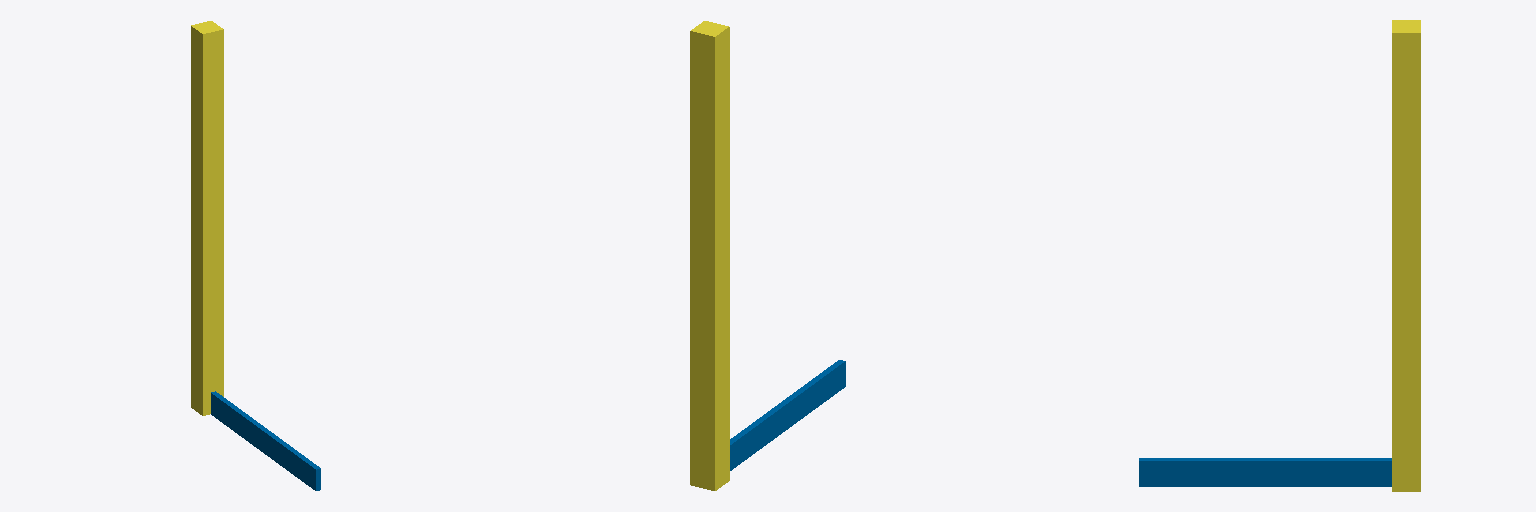
URDF robot description (panda):
<?xml version="1.0" ?>
<!-- =================================================================================== -->
<!-- |    This document was autogenerated by xacro from /opt/ros/kinetic/share/moveit_resources/panda_description/urdf/panda.urdf | -->
<!-- |    EDITING THIS FILE BY HAND IS NOT RECOMMENDED                                 | -->
<!-- =================================================================================== -->
<robot name="panda" xmlns:xacro="http://www.ros.org/wiki/xacro">
    <link name="l1">
        <inertial>
            <mass value="1e-6"/>
            <inertia ixx="1e-6" ixy="1e-6" ixz="1e-6" iyy="1e-6" iyz="1e-6" izz="1e-6"/>
        </inertial>
    </link>
    <link name="l2">
        <inertial>
            <mass value="1e-6"/>
            <inertia ixx="1e-6" ixy="1e-6" ixz="1e-6" iyy="1e-6" iyz="1e-6" izz="1e-6"/>
        </inertial>
    </link>
    <link name="panda_link0">
        <visual>
            <geometry>
                <mesh filename="package://meshes/visual/link0.dae" />
            </geometry>
        </visual>
        <collision>
            <geometry>
                <mesh filename="package://meshes/collision/link0.stl" />
            </geometry>
        </collision>
    </link>

        <joint name="j1" type="prismatic">
        <parent link="l1"/>
        <child link="l2"/>
        <origin xyz="0 0 0" rpy="0 0 0"/>
        <axis xyz="1 0 0"/>
        <limit effort="30" velocity="1.0" lower="-3.14" upper="3.14" />
    </joint>
    <joint name="j2" type="prismatic">
        <parent link="l2"/>
        <child link="panda_link0"/>
        <origin xyz="0 0 0" rpy="0 0 0"/>
        <axis xyz="0 1 0"/>
        <limit effort="30" velocity="1.0" lower="-3.14" upper="3.14" />
    </joint>

    <link name="panda_link1">
        <visual>
            <geometry>
                <mesh filename="package://meshes/visual/link1.dae" />
            </geometry>
        </visual>
        <collision>
            <geometry>
                <mesh filename="package://meshes/collision/link1.stl" />
            </geometry>
        </collision>
    </link>
    <joint name="panda_joint1" type="revolute">
        <safety_controller k_position="100.0" k_velocity="40.0" soft_lower_limit="-2.8973" soft_upper_limit="2.8973" />
        <origin rpy="0 0 0" xyz="0 0 0.333" />
        <parent link="panda_link0" />
        <child link="panda_link1" />
        <axis xyz="0 0 1" />
        <limit effort="87" lower="-2.9671" upper="2.9671" velocity="2.3925" />
    </joint>
    <link name="panda_link2">
        <visual>
            <geometry>
                <mesh filename="package://meshes/visual/link2.dae" />
            </geometry>
        </visual>
        <collision>
            <geometry>
                <mesh filename="package://meshes/collision/link2.stl" />
            </geometry>
        </collision>
    </link>
    <joint name="panda_joint2" type="revolute">
        <safety_controller k_position="100.0" k_velocity="40.0" soft_lower_limit="-1.7628" soft_upper_limit="1.7628" />
        <origin rpy="-1.57079632679 0 0" xyz="0 0 0" />
        <parent link="panda_link1" />
        <child link="panda_link2" />
        <axis xyz="0 0 1" />
        <limit effort="87" lower="-1.8326" upper="1.8326" velocity="2.3925" />
    </joint>
    <link name="panda_link3">
        <visual>
            <geometry>
                <mesh filename="package://meshes/visual/link3.dae" />
            </geometry>
        </visual>
        <collision>
            <geometry>
                <mesh filename="package://meshes/collision/link3.stl" />
            </geometry>
        </collision>
    </link>
    <joint name="panda_joint3" type="revolute">
        <safety_controller k_position="100.0" k_velocity="40.0" soft_lower_limit="-2.8973" soft_upper_limit="2.8973" />
        <origin rpy="1.57079632679 0 0" xyz="0 -0.316 0" />
        <parent link="panda_link2" />
        <child link="panda_link3" />
        <axis xyz="0 0 1" />
        <limit effort="87" lower="-2.9671" upper="2.9671" velocity="2.3925" />
    </joint>
    <link name="panda_link4">
        <visual>
            <geometry>
                <mesh filename="package://meshes/visual/link4.dae" />
            </geometry>
        </visual>
        <collision>
            <geometry>
                <mesh filename="package://meshes/collision/link4.stl" />
            </geometry>
        </collision>
    </link>
    <joint name="panda_joint4" type="revolute">
        <safety_controller k_position="100.0" k_velocity="40.0" soft_lower_limit="-3.0718" soft_upper_limit="0.0175" />
        <origin rpy="1.57079632679 0 0" xyz="0.0825 0 0" />
        <parent link="panda_link3" />
        <child link="panda_link4" />
        <axis xyz="0 0 1" />
        <limit effort="87" lower="-3.1416" upper="0.0873" velocity="2.3925" />
    </joint>
    <link name="panda_link5">
        <visual>
            <geometry>
                <mesh filename="package://meshes/visual/link5.dae" />
            </geometry>
        </visual>
        <collision>
            <geometry>
                <mesh filename="package://meshes/collision/link5.stl" />
            </geometry>
        </collision>
    </link>
    <joint name="panda_joint5" type="revolute">
        <safety_controller k_position="100.0" k_velocity="40.0" soft_lower_limit="-2.8973" soft_upper_limit="2.8973" />
        <origin rpy="-1.57079632679 0 0" xyz="-0.0825 0.384 0" />
        <parent link="panda_link4" />
        <child link="panda_link5" />
        <axis xyz="0 0 1" />
        <limit effort="12" lower="-2.9671" upper="2.9671" velocity="2.8710" />
    </joint>
    <link name="panda_link6">
        <visual>
            <geometry>
                <mesh filename="package://meshes/visual/link6.dae" />
            </geometry>
        </visual>
        <collision>
            <geometry>
                <mesh filename="package://meshes/collision/link6.stl" />
            </geometry>
        </collision>
    </link>
    <joint name="panda_joint6" type="revolute">
        <safety_controller k_position="100.0" k_velocity="40.0" soft_lower_limit="-0.0175" soft_upper_limit="3.7525" />
        <origin rpy="1.57079632679 0 0" xyz="0 0 0" />
        <parent link="panda_link5" />
        <child link="panda_link6" />
        <axis xyz="0 0 1" />
        <limit effort="12" lower="-0.0873" upper="3.8223" velocity="2.8710" />
    </joint>
    <link name="panda_link7">
        <visual>
            <geometry>
                <mesh filename="package://meshes/visual/link7.dae" />
            </geometry>
        </visual>
        <collision>
            <geometry>
                <mesh filename="package://meshes/collision/link7.stl" />
            </geometry>
        </collision>
    </link>
    <joint name="panda_joint7" type="revolute">
        <safety_controller k_position="100.0" k_velocity="40.0" soft_lower_limit="-2.8973" soft_upper_limit="2.8973" />
        <origin rpy="1.57079632679 0 0" xyz="0.088 0 0" />
        <parent link="panda_link6" />
        <child link="panda_link7" />
        <axis xyz="0 0 1" />
        <limit effort="12" lower="-2.9671" upper="2.9671" velocity="2.8710" />
    </joint>
    <link name="panda_link8" />
    <joint name="panda_joint8" type="fixed">
        <origin rpy="0 0 0" xyz="0 0 0.137" />
        <parent link="panda_link7" />
        <child link="panda_link8" />
        <axis xyz="0 0 0" />
    </joint>
    <joint name="panda_spade_joint" type="fixed">
        <parent link="panda_link8" />
        <child link="scythe_handle" />
        <origin rpy="0 0 0" xyz="0 0 0.7" />
    </joint>
    <link name="scythe_handle">
		<visual>
		    <origin xyz="0 0 -0.33" rpy="0 0 0"/>
			<geometry>
				<box size="0.04 0.04 0.7"/>
			</geometry>
		</visual>
	</link>
    <joint name="scythe_handle_tip" type="fixed">
        <parent link="scythe_handle"/>
        <child link="scythe_tip"/>
        <origin xyz="0. 0. 0." rpy="0 0 0"/>
    </joint>

 	<link name="scythe_tip">
		<visual>
		    <origin xyz="0 0.195 0" rpy="0 0 0"/>
			<geometry>
				<box size="0.01 0.35 0.04"/>
			</geometry>
		</visual>
	</link>

</robot>

--- Facts derived from the render (not from the file) ---
Views: 3 orthographic renders of the robot side by side, from view 1: azimuth 30°, elevation 25°; view 2: azimuth 150°, elevation 25°; view 3: azimuth 270°, elevation 25°.
Robot: panda — 13 links, 12 joints (7 revolute, 2 prismatic, 3 fixed); root link l1; default pose: every joint at zero.
Links seen in each view (by area): view 1: scythe_handle, scythe_tip; view 2: scythe_handle, scythe_tip; view 3: scythe_handle, scythe_tip.
Link boxes in pixels (<box>): scythe_handle: <box>191,21,223,415</box>; scythe_tip: <box>211,391,320,490</box>; scythe_handle: <box>690,21,729,490</box>; scythe_tip: <box>730,360,845,470</box>; scythe_handle: <box>1392,20,1420,491</box>; scythe_tip: <box>1139,458,1391,486</box>.
Bounding box of the posed robot: 0.04 × 0.39 × 0.7 m (x, y, z).
Meshes: 8 distinct files referenced, 0 mesh visuals loaded (none loaded); not drawn: 8 (reference not matched to a file when rendering).